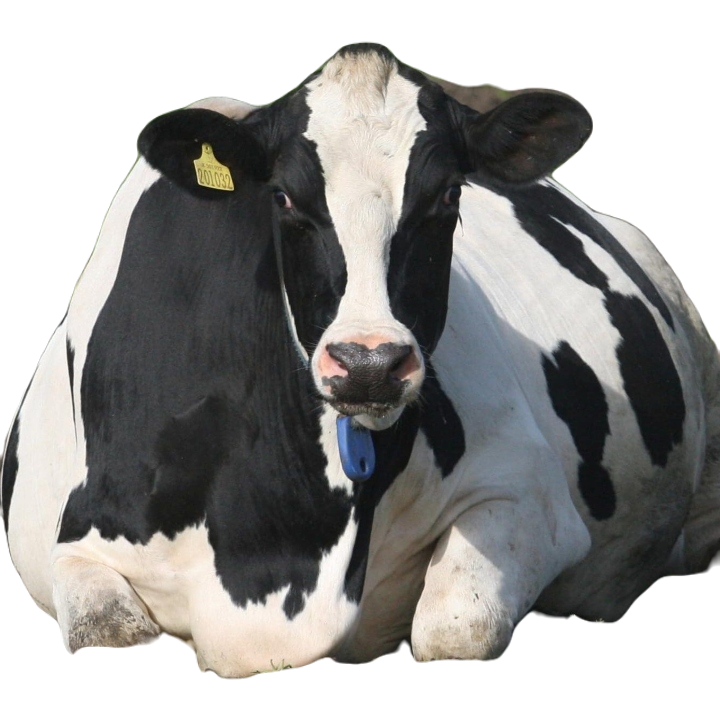Cow: (2, 43, 719, 680)
